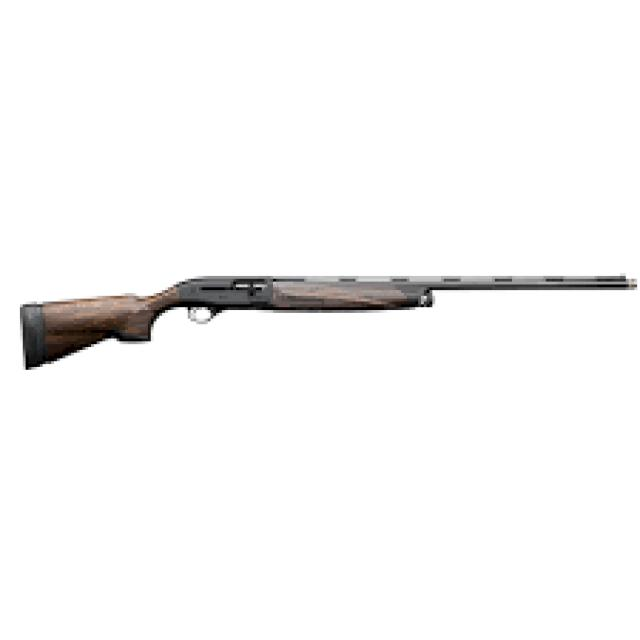rifle: (8, 266, 640, 384)
